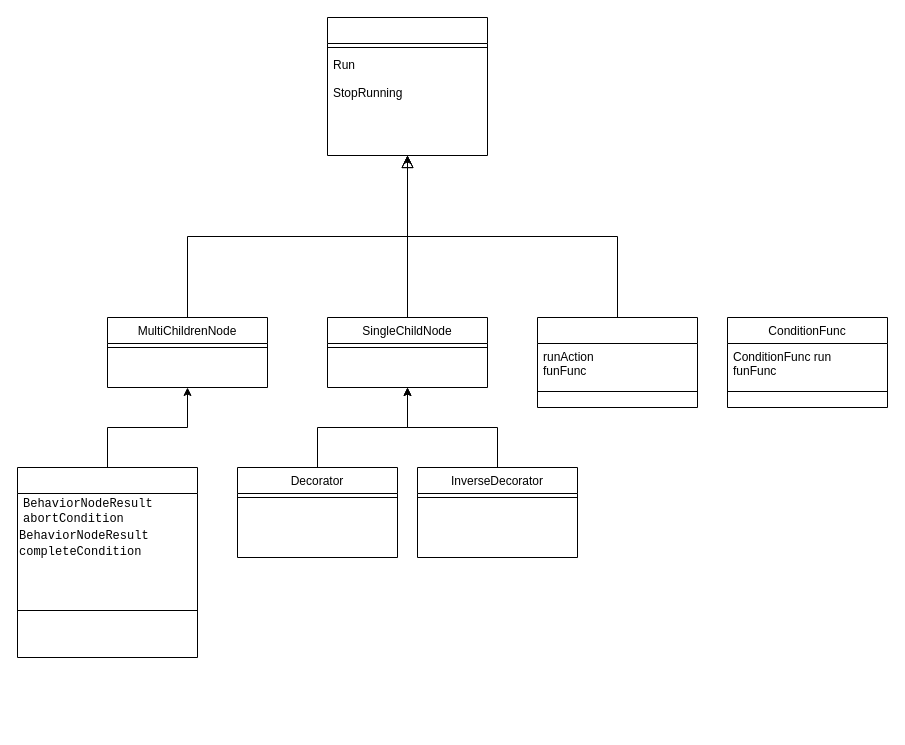
Some shapes in this 905 by 745 pixel diagram are drawn without their labels. The box of each missing label's shape, as (x1, y1, x2, y2) in pixels:
Composition: (16, 466, 198, 658)
Node: (326, 16, 488, 156)
Task: (536, 316, 698, 408)
